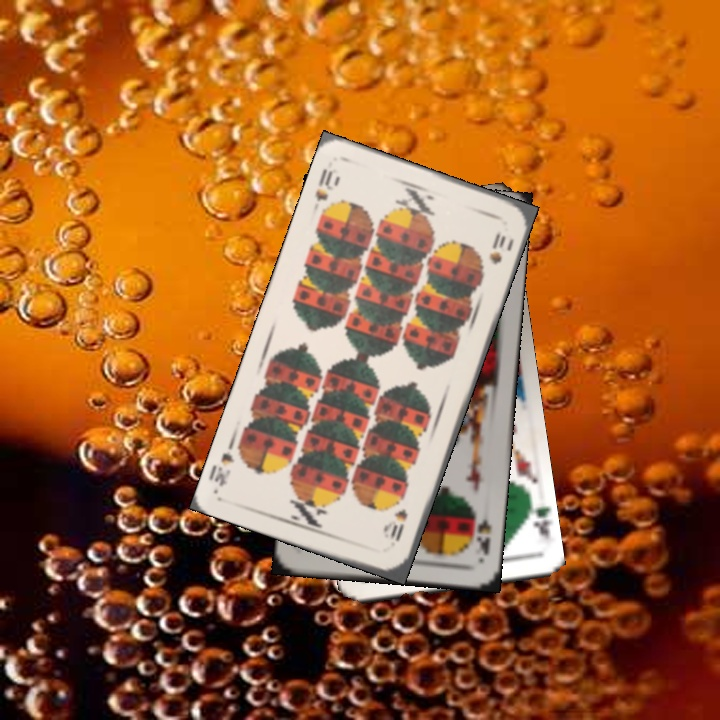GK: (523, 497, 552, 542)
S10: (311, 164, 343, 205), (386, 505, 410, 545)
SK: (468, 507, 493, 565)
